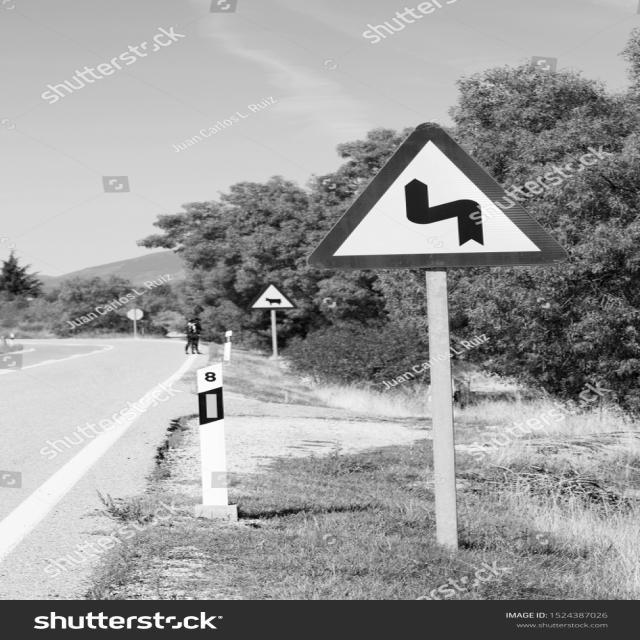left reverse bend: (319, 123, 568, 272)
